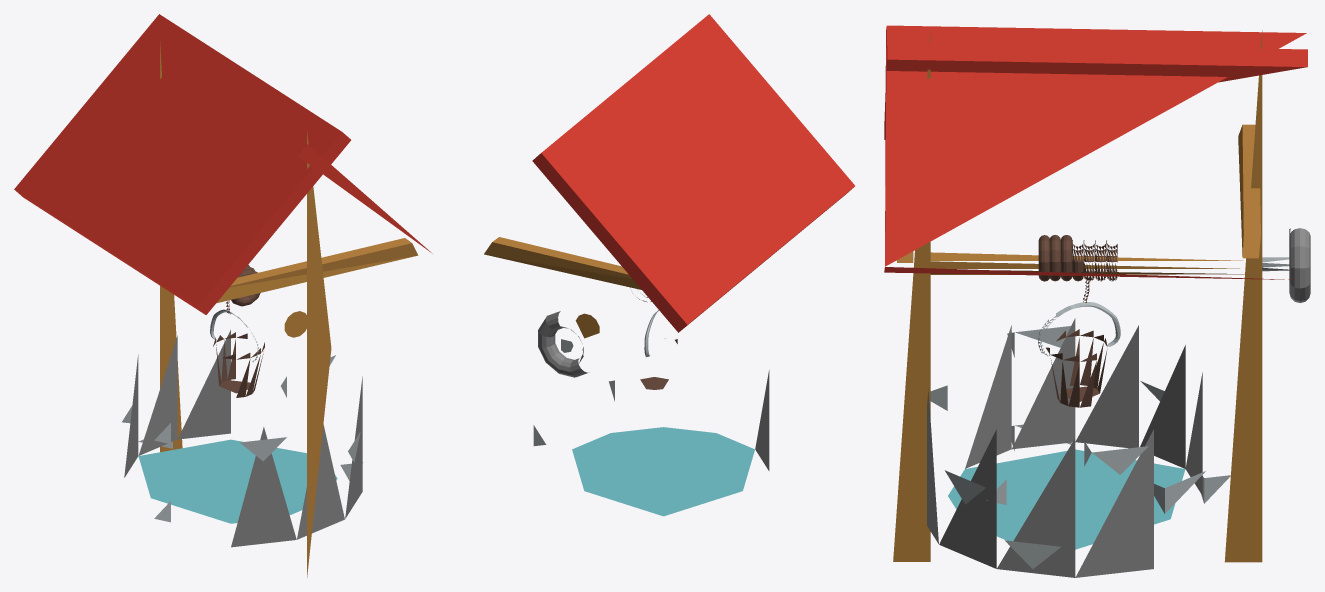
The model's file is sumur.glb.
3 renders of one model, left to right at view 1: azimuth 30°, elevation 25°; view 2: azimuth 150°, elevation 25°; view 3: azimuth 270°, elevation 25°, orthographic. The views are drawn at different scales.
Parts seen in each view (by area): view 1: geometry_0; view 2: geometry_0; view 3: geometry_0.
Boxes of the visible parts, bbox=[...] form: geometry_0: bbox=[14, 14, 432, 577]; geometry_0: bbox=[484, 14, 854, 516]; geometry_0: bbox=[884, 25, 1310, 577].
Size of the model in its own units: 0.5874 by 1.04 by 0.7459.
